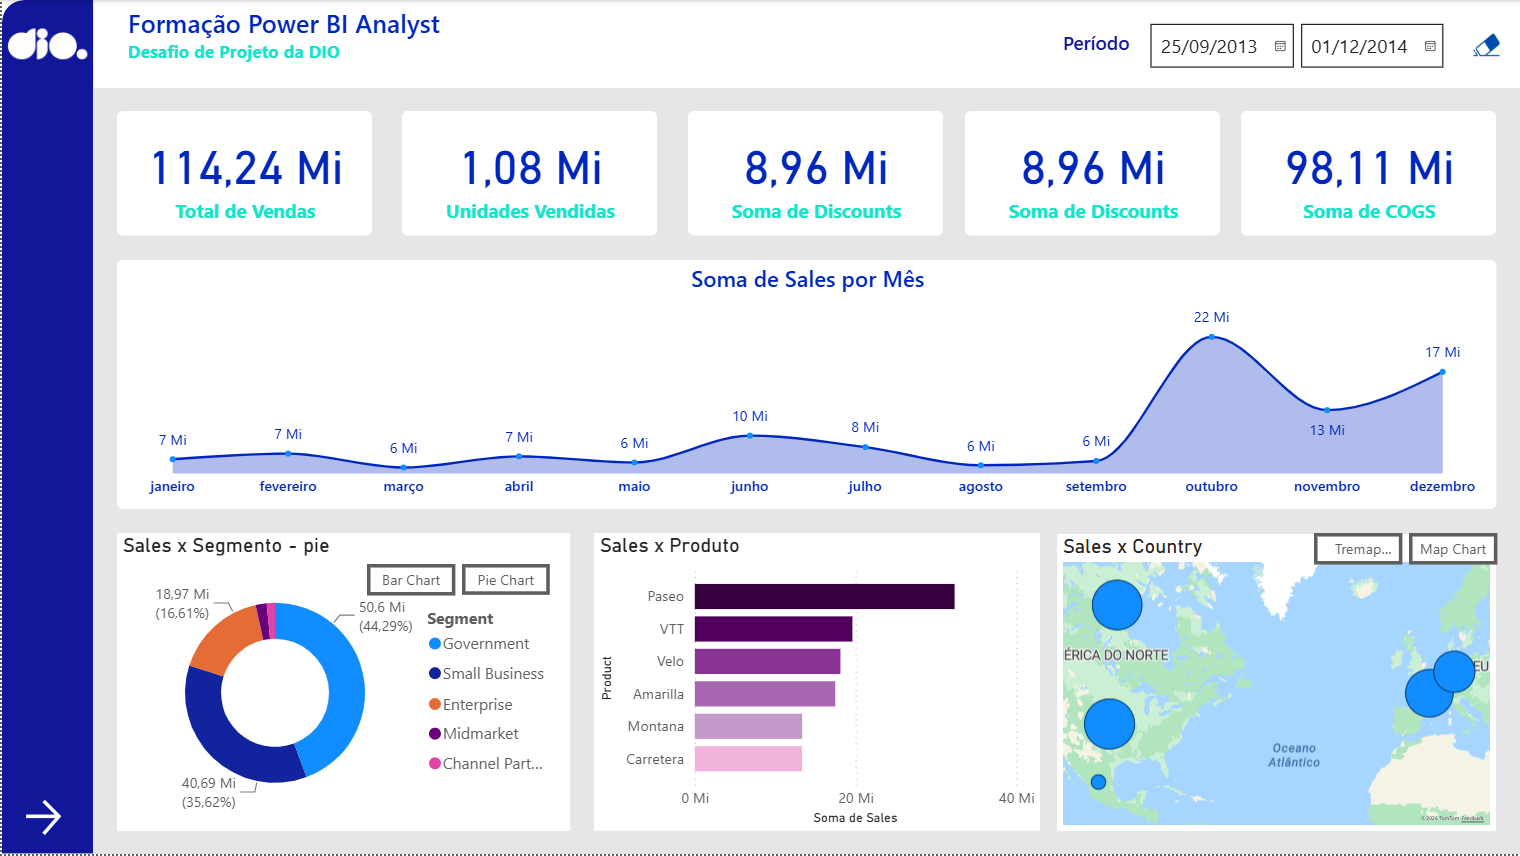

The page's visual inventory and layout, read from the dashboard file:
{"tool":"powerbi","page":{"name":"Página 1","canvas":[1280,720],"ordinal":0},"visuals":[{"type":"shape","box":[0,74,1280,646],"z":0},{"type":"clusteredBarChart","title":"Sales x Segment","fields":{"Category":["financials.Segment"],"Y":["Sum(financials. Sales)"]},"box":[97,449.5,382,250.5],"z":1000},{"type":"azureMap","title":"Sales x Country","fields":{"Category":["financials.Country"],"Size":["Sum(financials. Sales)"]},"box":[889.3,450,370,250],"z":2000},{"type":"actionButton","title":"Botão - map","box":[1186.2,449.3,74.5,26.6],"z":4000},{"type":"card","fields":{"Values":["Sum(financials. Sales)"]},"box":[97.1,93.9,214.5,105.5],"z":5000,"group":"g1"},{"type":"actionButton","title":"Botão - tremap","box":[1106.4,449.3,74.5,26.6],"z":5000},{"type":"card","fields":{"Values":["Sum(financials.Units Sold)"]},"box":[337.7,93.9,214.5,105.5],"z":6000,"group":"g1"},{"type":"donutChart","title":"Sales x Segmento - pie","fields":{"Category":["financials.Segment"],"Y":["Sum(financials. Sales)"]},"box":[97,449.5,376.5,250.5],"z":6000},{"type":"card","fields":{"Values":["Sum(financials.Discounts)"]},"box":[811.7,93.9,214.5,105.5],"z":7000,"group":"g1"},{"type":"actionButton","title":"Botão - bar","box":[307.8,475.6,74.5,26.6],"z":7000},{"type":"card","fields":{"Values":["Sum(financials.Discounts)"]},"box":[578.3,93.9,214.5,105.5],"z":8000,"group":"g1"},{"type":"actionButton","title":"Botão -pie","box":[387.6,475.6,74,26],"z":8000},{"type":"slicer","fields":{"Values":["financials.Date"]},"box":[955,5,272.2,63.9],"z":9000},{"type":"card","fields":{"Values":["Sum(financials.COGS)"]},"box":[1045.1,93.9,214.5,105.5],"z":9000,"group":"g1"},{"type":"shape","box":[0,7,77,713],"z":10000},{"type":"textbox","box":[889.3,20,66.4,36.4],"z":11000},{"type":"shape","box":[0,0,77.2,73.8],"z":12000},{"type":"image","title":"logo_dio","box":[0.3,0,77,74],"z":13000},{"type":"image","title":"clean","box":[1227.3,21.8,47.3,31.8],"z":14000},{"type":"textbox","box":[101,0,366,74],"z":15000},{"type":"group","id":"g1","title":"Cartões","box":[97.1,93.9,1162.9,105.5],"z":16000},{"type":"clusteredBarChart","title":"Sales x Produto","fields":{"Category":["financials.Product"],"Y":["Sum(financials. Sales)"]},"box":[499.3,449.3,376,250.5],"z":17000},{"type":"areaChart","fields":{"Category":["financials.Date.Variation.Hierarquia de datas.Mês"],"Y":["Sum(financials. Sales)"]},"box":[97.1,219.4,1162.6,210],"z":19000},{"type":"actionButton","box":[14,669,48.8,39.6],"z":20000}]}

Visuals, with their boxes on the page's 1280x720 design canvas (x1, y1, x2, y2). These are canvas units, not pixel positions in the 1520x856 screenshot, which may show the page scaled, cropped or inside an application window:
shape: region(0, 74, 1280, 720)
"Sales x Segment" clusteredBarChart: region(97, 450, 479, 700)
"Sales x Country" azureMap: region(889, 450, 1259, 700)
"Botão - map" actionButton: region(1186, 449, 1261, 476)
card - Sum(financials. Sales): region(97, 94, 312, 199)
"Botão - tremap" actionButton: region(1106, 449, 1181, 476)
card - Sum(financials.Units Sold): region(338, 94, 552, 199)
"Sales x Segmento - pie" donutChart: region(97, 450, 474, 700)
card - Sum(financials.Discounts): region(812, 94, 1026, 199)
"Botão - bar" actionButton: region(308, 476, 382, 502)
card - Sum(financials.Discounts): region(578, 94, 793, 199)
"Botão -pie" actionButton: region(388, 476, 462, 502)
slicer - financials.Date: region(955, 5, 1227, 69)
card - Sum(financials.COGS): region(1045, 94, 1260, 199)
shape: region(0, 7, 77, 720)
textbox: region(889, 20, 956, 56)
shape: region(0, 0, 77, 74)
"logo_dio" image: region(0, 0, 77, 74)
"clean" image: region(1227, 22, 1275, 54)
textbox: region(101, 0, 467, 74)
"Cartões" group: region(97, 94, 1260, 199)
"Sales x Produto" clusteredBarChart: region(499, 449, 875, 700)
areaChart - financials.Date.Variation.Hierarquia de datas.Mês x Sum(financials. Sales): region(97, 219, 1260, 429)
actionButton: region(14, 669, 63, 709)
